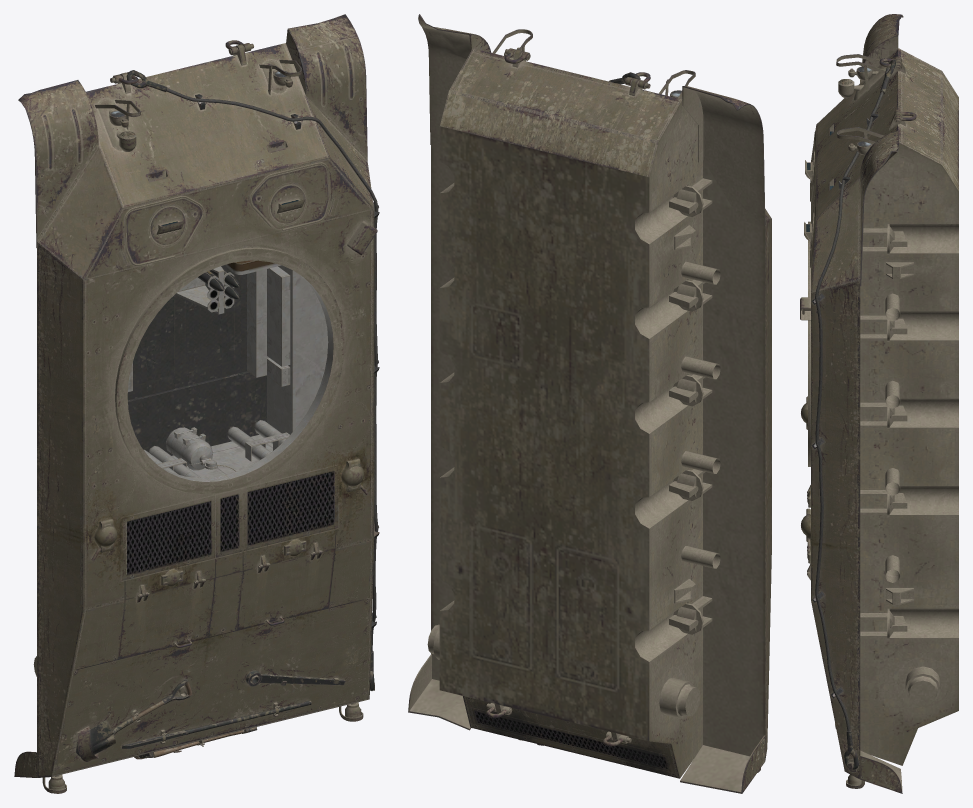
File: Hull.glb
3 views of the same model, side by side, from view 1: azimuth 30°, elevation 25°; view 2: azimuth 150°, elevation 25°; view 3: azimuth 270°, elevation 25° (orthographic). The views are drawn at different scales.
Visible parts, largest first — view 1: set_0_group_0; view 2: set_0_group_0; view 3: set_0_group_0.
Boxes of the visible parts, left/top/right/bottom form: set_0_group_0: left=14, top=14, right=379, bottom=793; set_0_group_0: left=408, top=14, right=771, bottom=793; set_0_group_0: left=800, top=14, right=958, bottom=793.
Bounding box in the file's own units: 2.7 × 5.37 × 1.2.
Materials: 1 (1 with a texture image).
